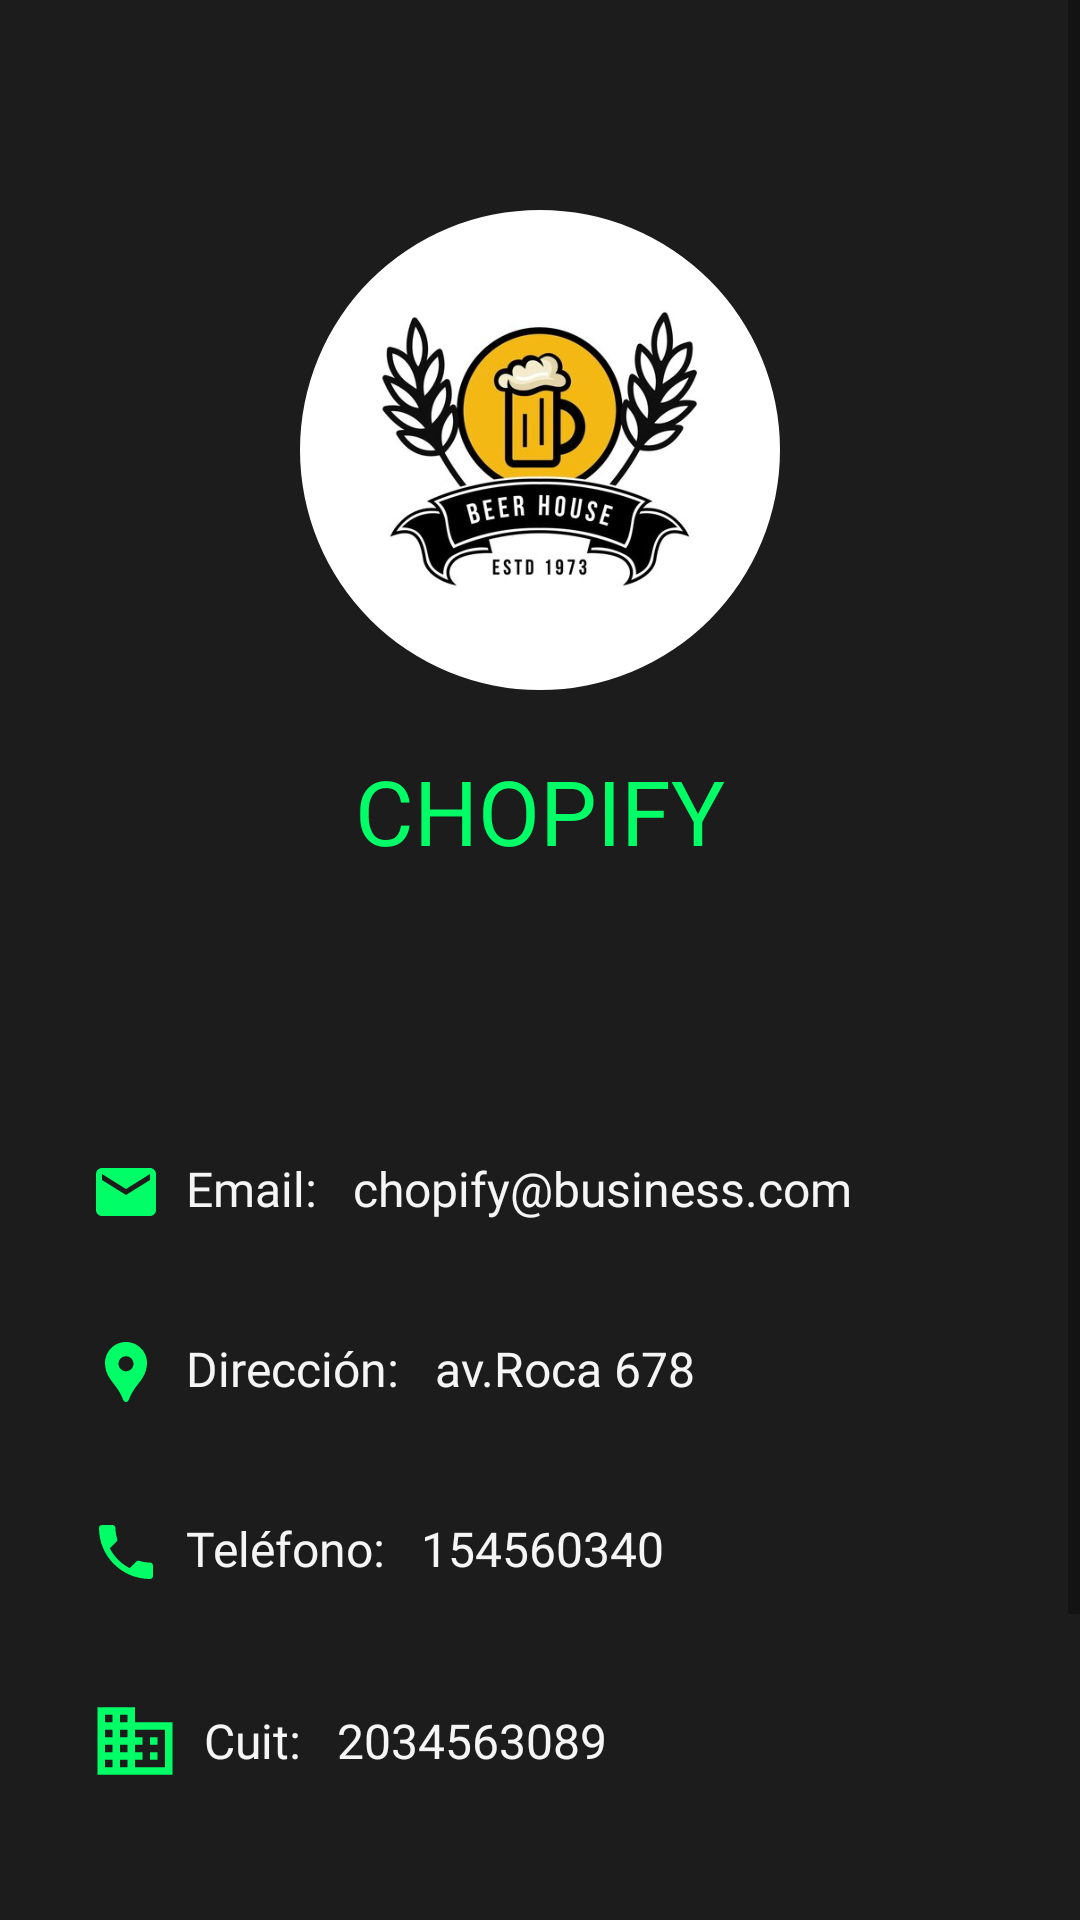

Icon bounding boxes for this 1080px×1920px phone screenshot, format (x1, y1, x2, y2):
business: (97, 1707, 173, 1775)
location pin: (105, 1342, 147, 1402)
phone: (99, 1525, 153, 1579)
